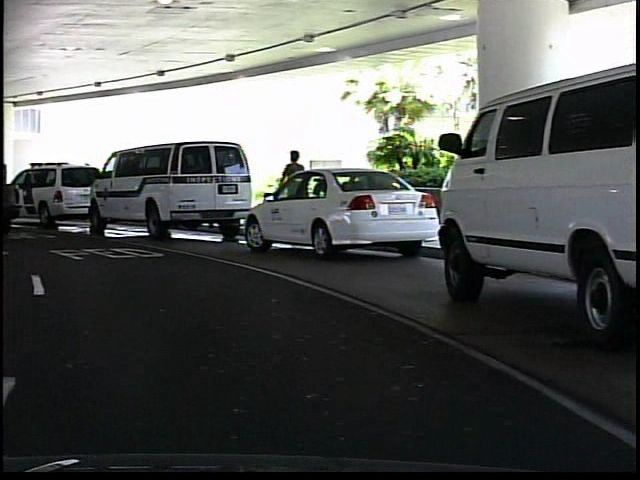person: (276, 144, 308, 229)
